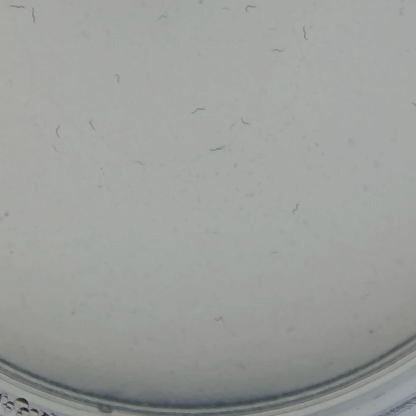worm: (187, 100, 213, 122), (205, 139, 233, 159), (83, 113, 105, 136), (293, 23, 314, 44), (236, 111, 256, 133), (26, 3, 40, 28), (266, 45, 291, 59), (205, 312, 230, 326), (153, 10, 176, 25), (240, 0, 260, 16), (3, 0, 24, 14), (285, 201, 303, 217), (109, 71, 126, 86), (216, 1, 232, 16), (126, 157, 147, 168), (54, 121, 66, 139), (48, 140, 64, 153), (114, 116, 132, 127), (0, 206, 12, 221)
